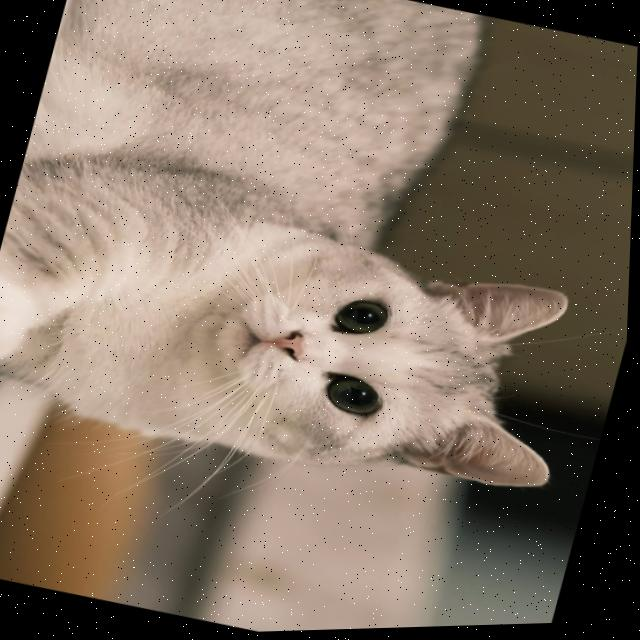Munchkin: (0, 0, 640, 539)
